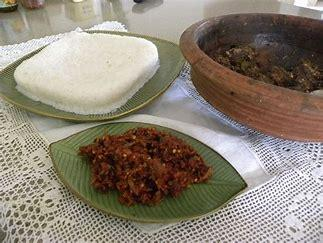Kiribath: (21, 13, 163, 117)
Lunu sambol: (77, 127, 280, 219)
